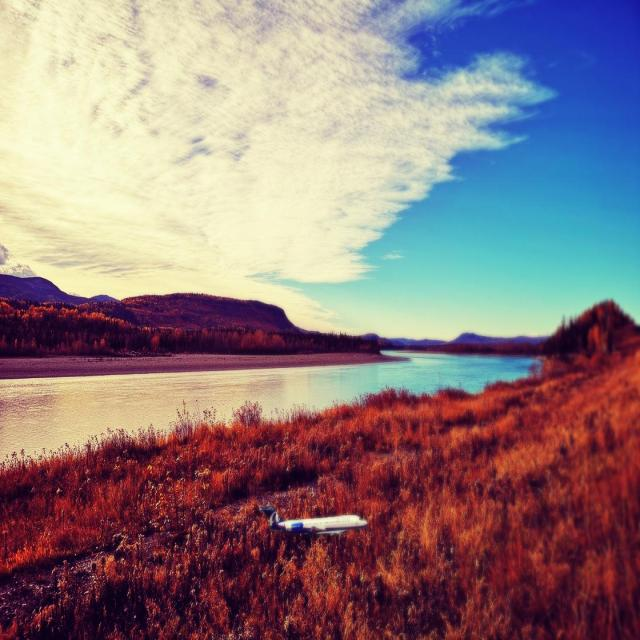airplane: (258, 504, 368, 537)
